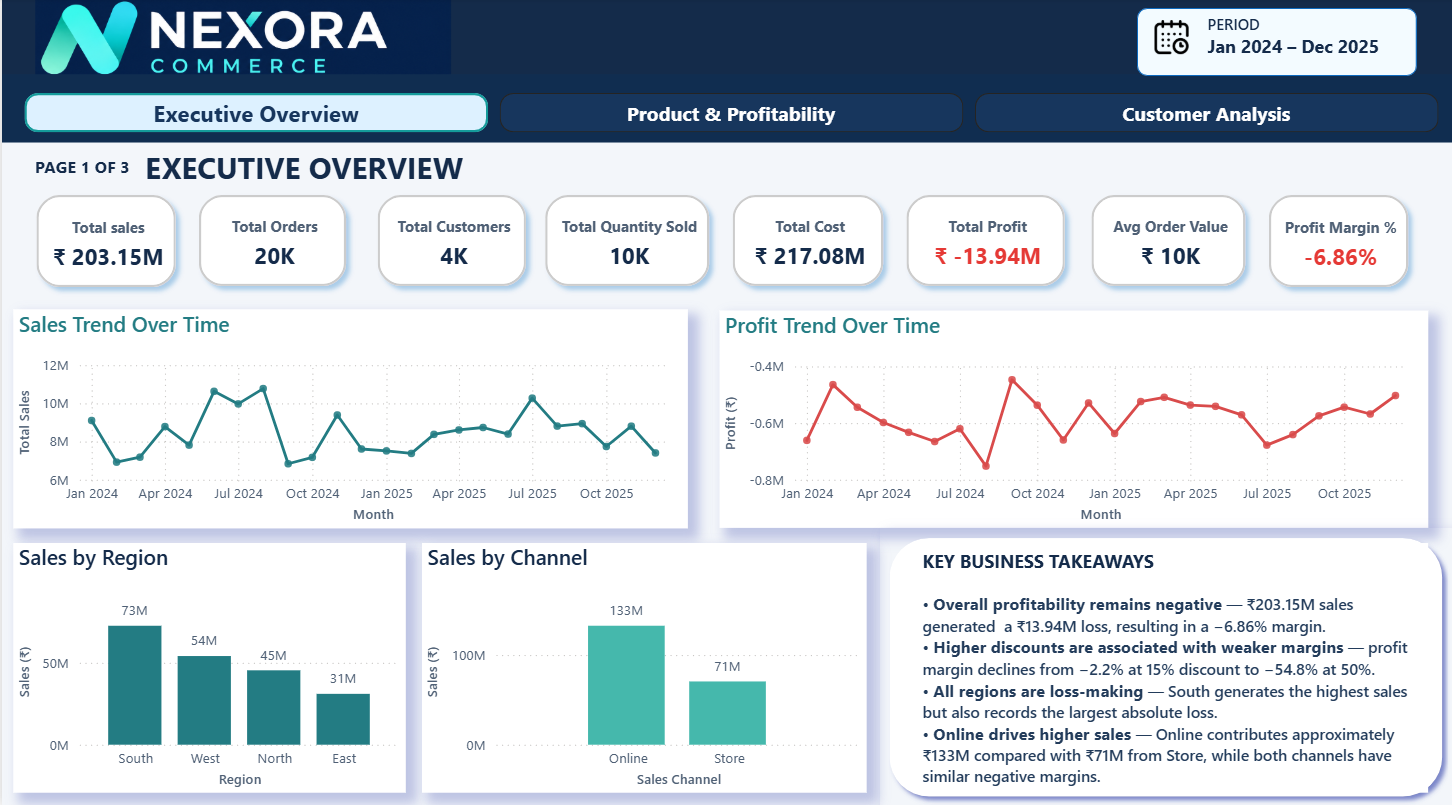

Layout of this report page (visuals, bound fields, positions):
{"tool":"powerbi","page":{"name":"Executive Overview","canvas":[1300,720],"ordinal":0},"visuals":[{"type":"shape","box":[0,0,1300.5,77.2],"z":0},{"type":"image","box":[0,0,429.5,77.2],"z":1000},{"type":"shape","box":[0,68.2,1300,61.2],"z":2000},{"type":"textbox","box":[24.8,134.6,126.7,33.8],"z":3000},{"type":"textbox","box":[122.8,127.5,672,50.8],"z":4000},{"type":"cardVisual","fields":{"Data":["order_details_clean.Total sales"]},"box":[7.1,151.2,177,135],"z":5000},{"type":"cardVisual","fields":{"Data":["order_details_clean.Total Orders"]},"box":[151.2,151.2,184.2,134.6],"z":6000},{"type":"cardVisual","fields":{"Data":["Customers_Clean.Total Customers"]},"box":[310.6,151.2,185.4,134.6],"z":7000},{"type":"cardVisual","fields":{"Data":["order_details_clean.Total Quantity Sold"]},"box":[459.4,151.2,199.6,134.6],"z":8000},{"type":"cardVisual","fields":{"Data":["order_details_clean.Total Cost"]},"box":[627.1,151.2,187.8,134.6],"z":9000},{"type":"cardVisual","fields":{"Data":["order_details_clean.Total Profit"]},"box":[781.8,151.2,194.9,134.6],"z":10000},{"type":"cardVisual","fields":{"Data":["order_details_clean.Average Order Value"]},"box":[946,151.2,190.1,134.6],"z":11000},{"type":"cardVisual","fields":{"Data":["order_details_clean.Profit Margin %"]},"box":[1104.2,151.2,177,135],"z":12000},{"type":"lineChart","title":"Sales Trend Over Time","fields":{"Y":["order_details_clean.Total sales"],"Category":["orders_clean.Order_Date.Variation.Date Hierarchy.Year","orders_clean.Order_Date.Variation.Date Hierarchy.Month"]},"box":[10,277.2,601.1,194.8],"z":13000},{"type":"lineChart","title":"Profit Trend Over Time","fields":{"Y":["order_details_clean.Total Profit"],"Category":["orders_clean.Order_Date.Variation.Date Hierarchy.Year","orders_clean.Order_Date.Variation.Date Hierarchy.Month"]},"box":[639,278.3,631.2,193.7],"z":14000},{"type":"clusteredColumnChart","title":"Sales by Region","fields":{"Y":["order_details_clean.Total sales"],"Category":["Customers_Clean.Region"]},"box":[10,485.3,349.5,222.6],"z":15000},{"type":"clusteredColumnChart","title":"Sales by Channel","fields":{"Category":["orders_clean.Sales_Channel"],"Y":["order_details_clean.Total sales"]},"box":[374.1,485.9,396.3,222.6],"z":16000},{"type":"shape","box":[781.7,472,518.3,248.8],"z":17000},{"type":"textbox","box":[814.8,485.3,455.3,222.6],"z":18000},{"type":"pageNavigator","box":[20.1,85,1261.3,35.4],"z":19000},{"type":"shape","box":[1011.3,8.5,249.3,60.6],"z":20000},{"type":"textbox","box":[1069,8.5,166.2,60.6],"z":21000},{"type":"image","box":[1026.8,9.9,30.7,49.6],"z":22000}]}

Visuals, with their boxes in screenshot pixels (x1, y1, x2, y2), scaled from the page's 1300x720 canvas onto the 1452x805 screenshot:
shape: Rect(0, 0, 1451, 86)
image: Rect(0, 0, 480, 86)
shape: Rect(0, 76, 1451, 145)
textbox: Rect(28, 150, 169, 188)
textbox: Rect(137, 143, 888, 199)
cardVisual - order_details_clean.Total sales: Rect(8, 169, 206, 320)
cardVisual - order_details_clean.Total Orders: Rect(169, 169, 375, 320)
cardVisual - Customers_Clean.Total Customers: Rect(347, 169, 554, 320)
cardVisual - order_details_clean.Total Quantity Sold: Rect(513, 169, 736, 320)
cardVisual - order_details_clean.Total Cost: Rect(700, 169, 910, 320)
cardVisual - order_details_clean.Total Profit: Rect(873, 169, 1091, 320)
cardVisual - order_details_clean.Average Order Value: Rect(1057, 169, 1269, 320)
cardVisual - order_details_clean.Profit Margin %: Rect(1233, 169, 1431, 320)
"Sales Trend Over Time" lineChart: Rect(11, 310, 683, 528)
"Profit Trend Over Time" lineChart: Rect(714, 311, 1419, 528)
"Sales by Region" clusteredColumnChart: Rect(11, 543, 402, 791)
"Sales by Channel" clusteredColumnChart: Rect(418, 543, 860, 792)
shape: Rect(873, 528, 1451, 804)
textbox: Rect(910, 543, 1419, 791)
pageNavigator: Rect(22, 95, 1431, 135)
shape: Rect(1130, 10, 1408, 77)
textbox: Rect(1194, 10, 1380, 77)
image: Rect(1147, 11, 1181, 67)
